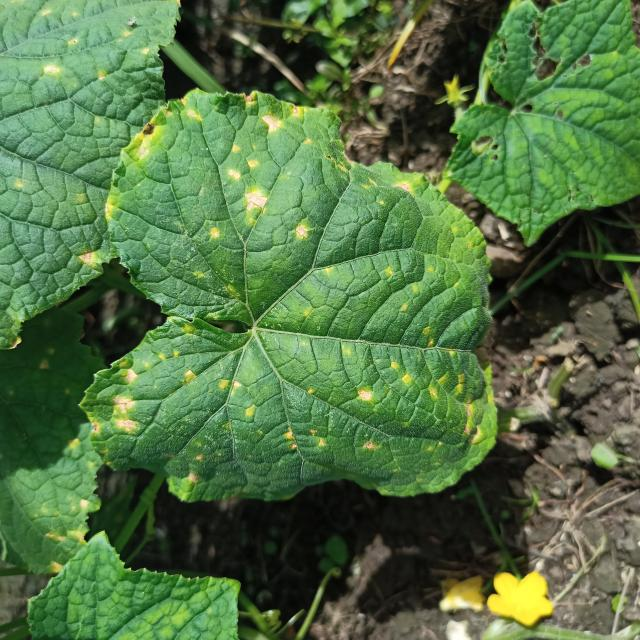disease_cucumber: (99, 92, 486, 500), (41, 25, 156, 86), (39, 487, 91, 572)
